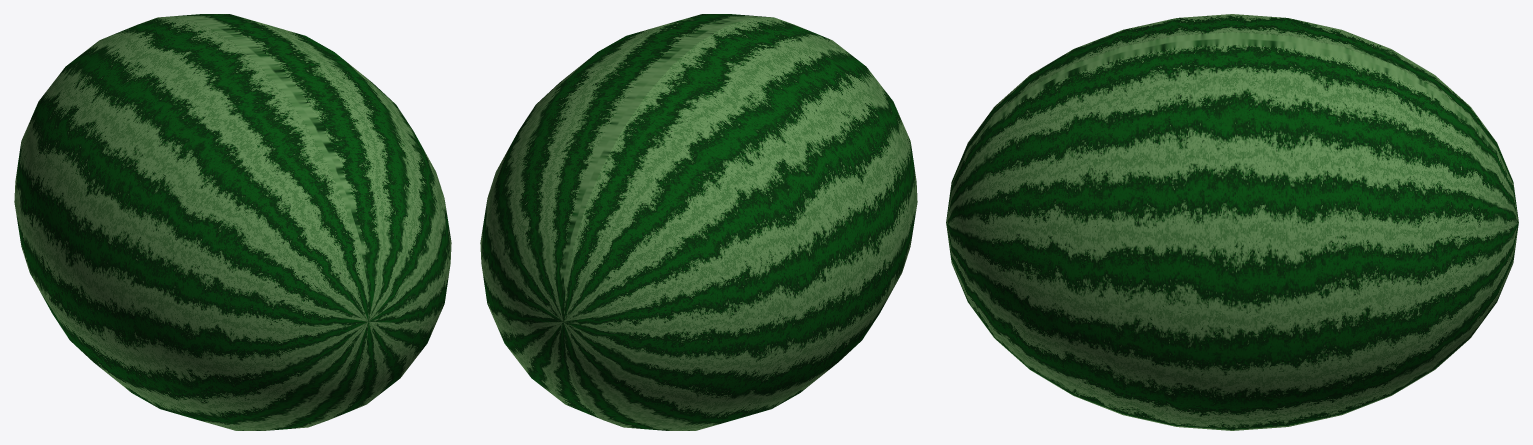
File: ватермелонмьюзик.fbx
The picture shows the model from 3 angles, left to right: view 1: azimuth 30°, elevation 25°; view 2: azimuth 150°, elevation 25°; view 3: azimuth 270°, elevation 25°; orthographic projection. The views are drawn at different scales.
Visible parts, largest first — view 1: арбуз; view 2: арбуз; view 3: арбуз.
Boxes of the visible parts, bbox=[...] form: арбуз: bbox=[14, 14, 451, 430]; арбуз: bbox=[480, 14, 917, 430]; арбуз: bbox=[946, 14, 1518, 430].
Bounding box in the file's own units: 43.13 × 43.13 × 58.81.
1 material, 1 textured.
